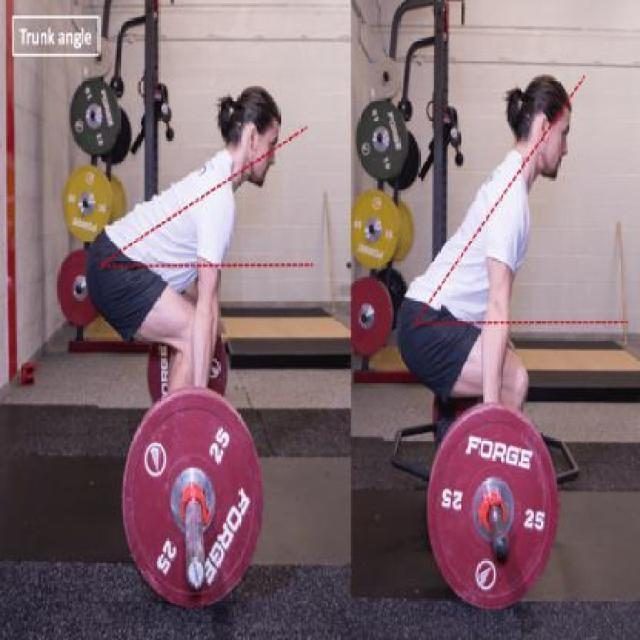barbell: (115, 380, 273, 617), (418, 394, 566, 619)
